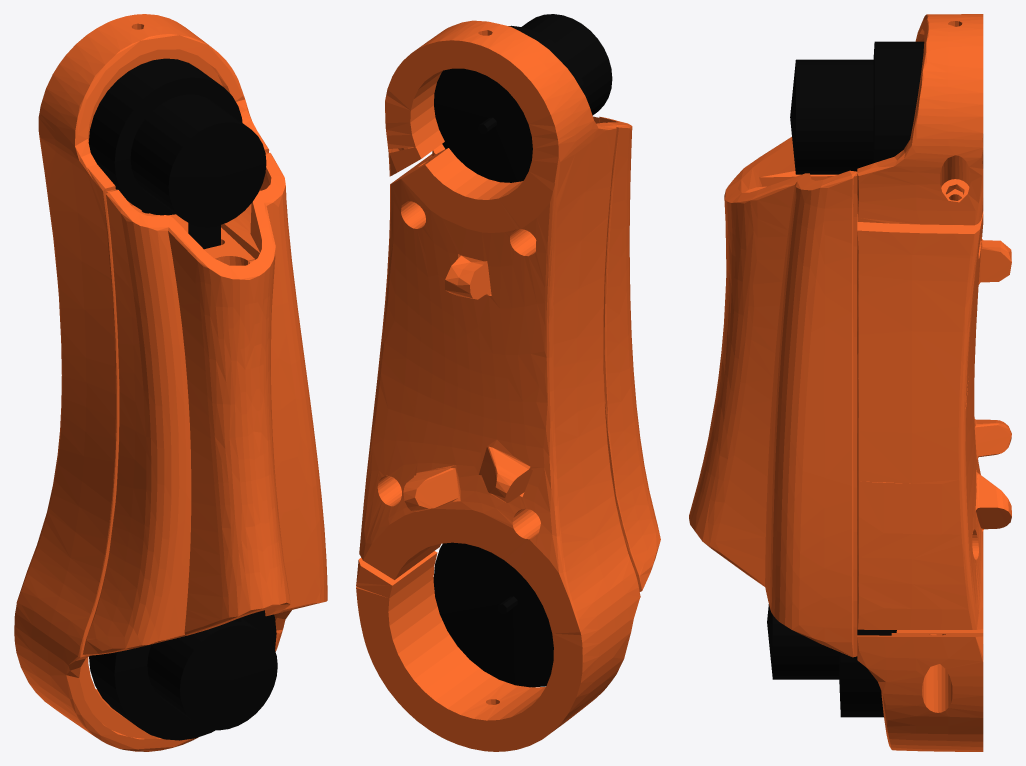
Rendered from arm2.obj.
3 views of the same model, side by side, from view 1: azimuth 30°, elevation 25°; view 2: azimuth 150°, elevation 25°; view 3: azimuth 270°, elevation 25° (orthographic). The views are drawn at different scales.
Parts seen in each view (by area): view 1: arm2_arm2-Geometry; view 2: arm2_arm2-Geometry; view 3: arm2_arm2-Geometry.
Boxes of the visible parts, x1,y1,x2,y2 form: arm2_arm2-Geometry: [14, 14, 327, 751]; arm2_arm2-Geometry: [356, 14, 660, 751]; arm2_arm2-Geometry: [689, 14, 1011, 751].
Bounding box in the file's own units: 0.0745 × 0.22 × 0.0899.
